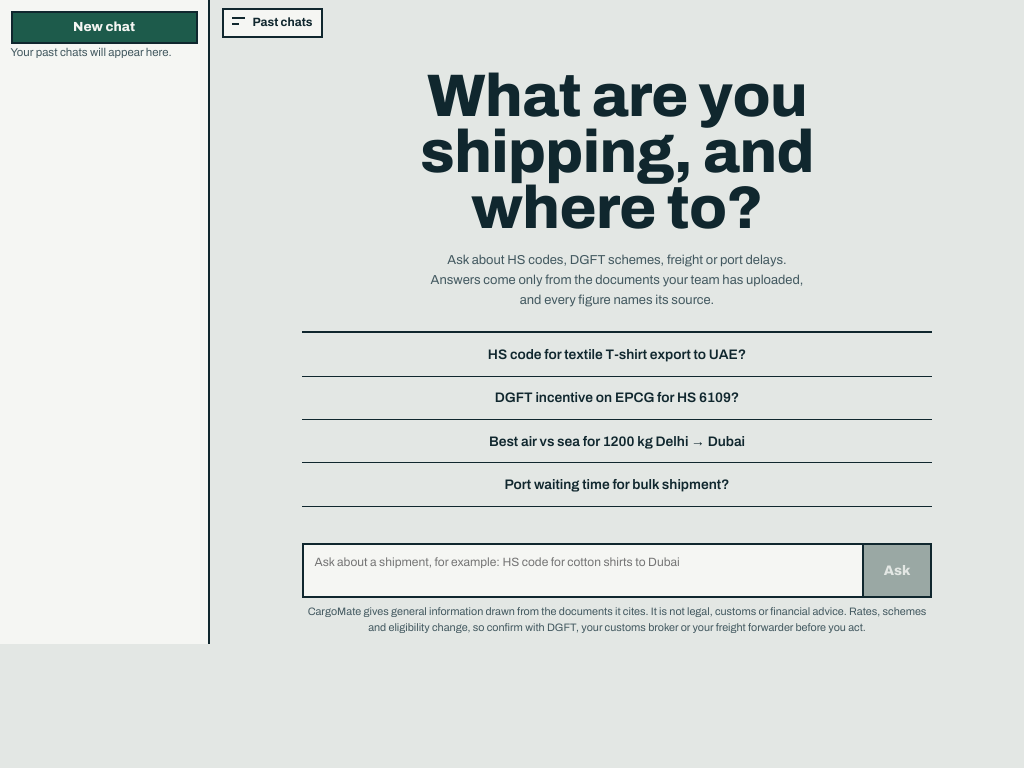
Test: Chat history › deletes a chat only after confirmation, and Keep cancels
Type "keep me" into the text box named "Your question". click: (583, 571)
box: [304, 545, 862, 596]
Then press Enter
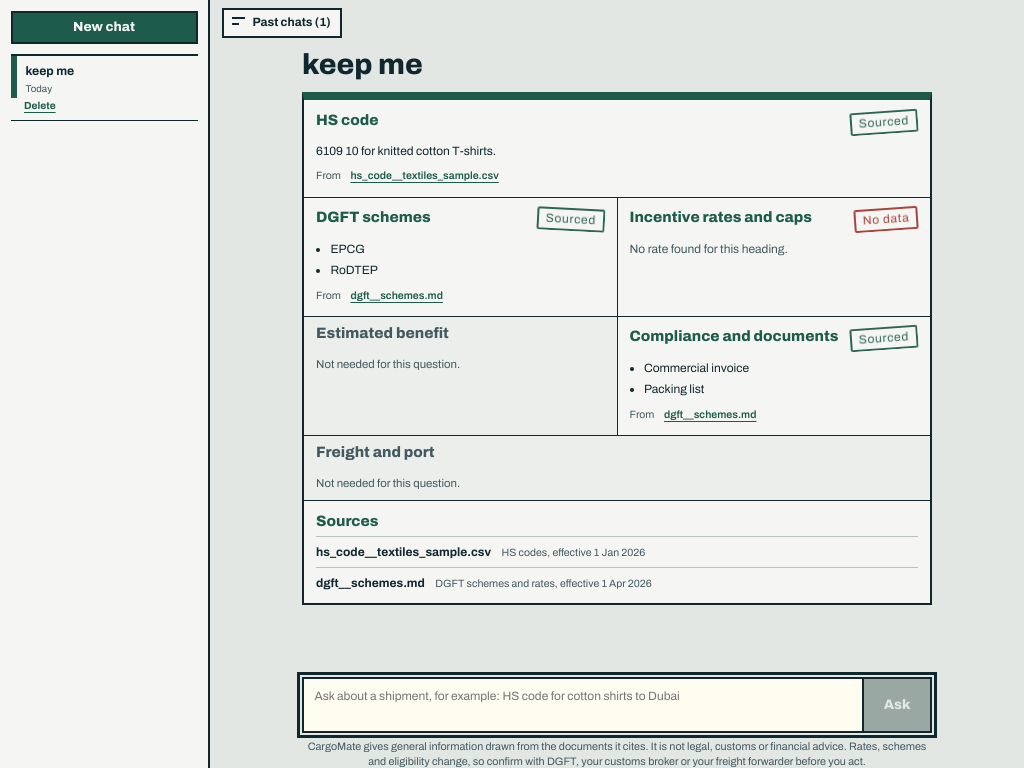
expect the text box named "Your question" is enabled: met, box [304, 679, 862, 731]
Click the button with aria-label "Delete chat: keep me". click: (40, 106)
box: [24, 98, 56, 114]
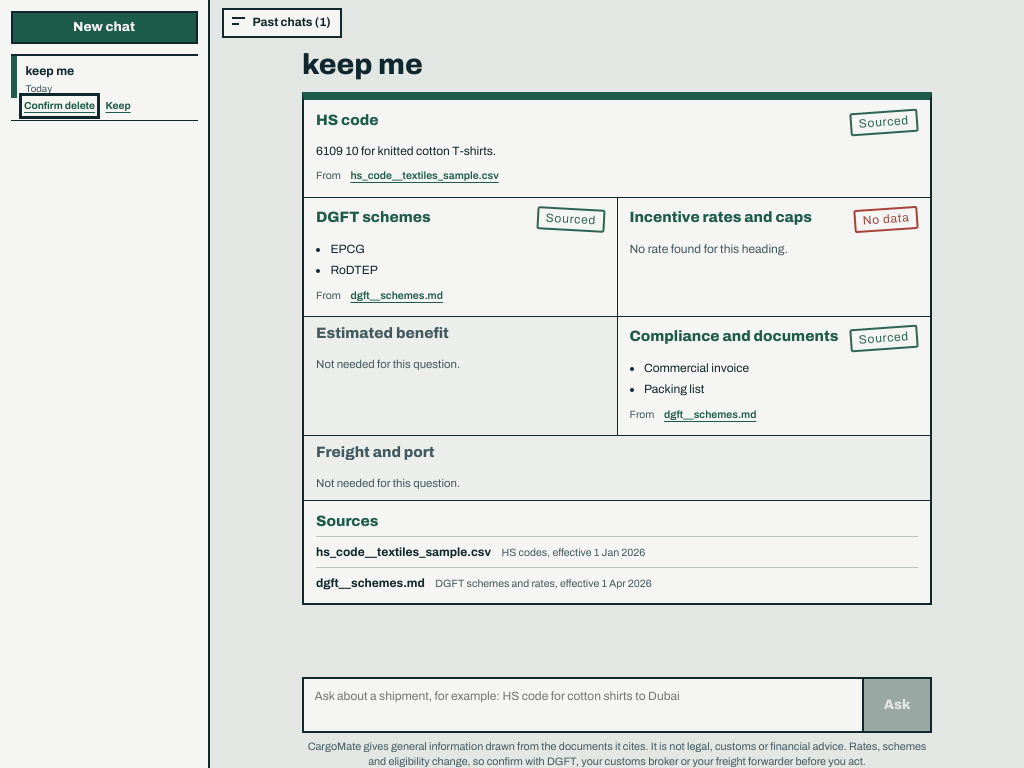
Click the button "Keep". click: (118, 106)
box: [106, 98, 131, 114]
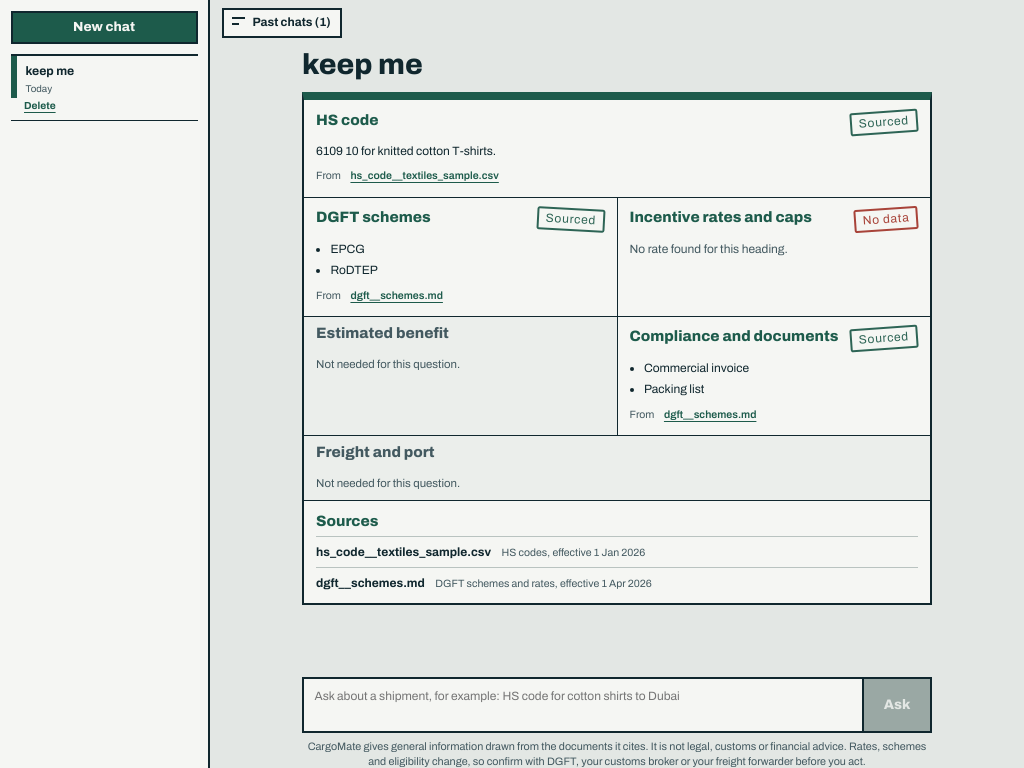
Click the button with aria-label "Delete chat: keep me". click: (40, 106)
box: [24, 98, 56, 114]
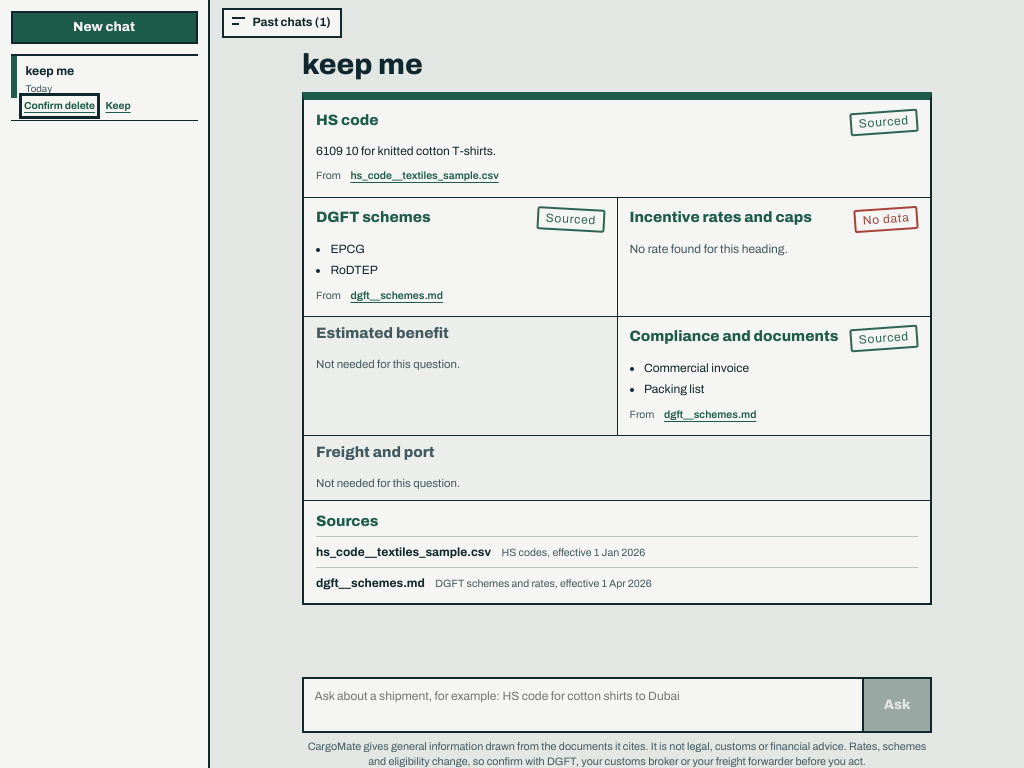
Click the button "Confirm delete". click: (60, 106)
box: [24, 98, 95, 114]
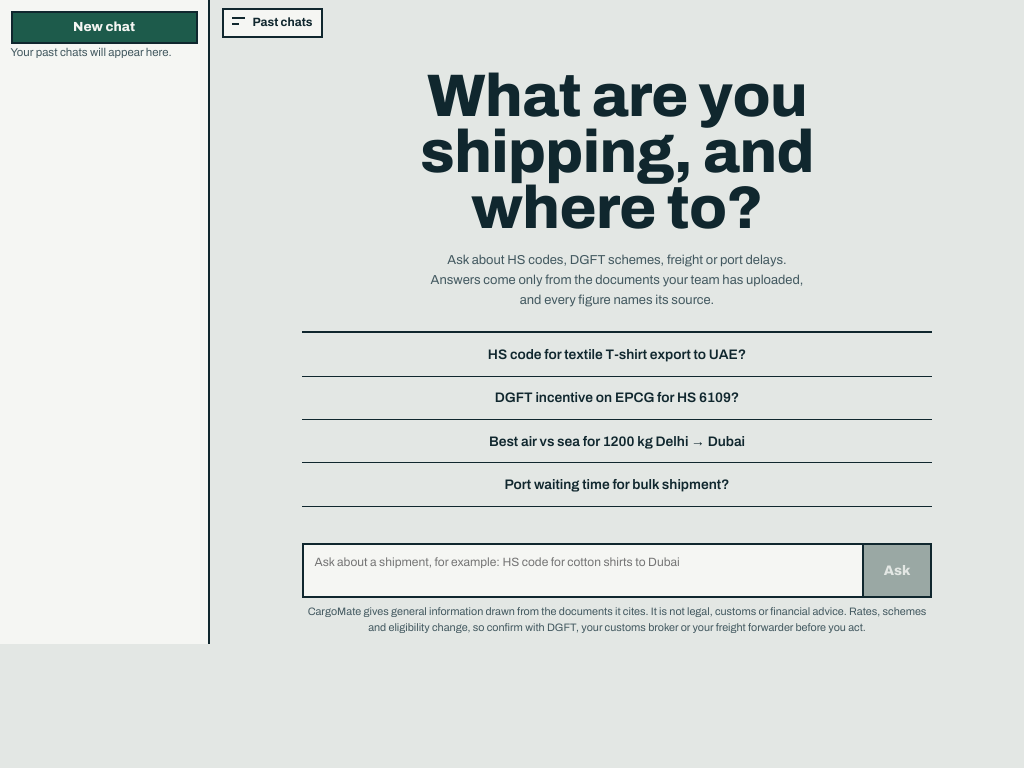
expect the text "Your past chats will appear here." is shown: met, box [10, 44, 198, 61]
